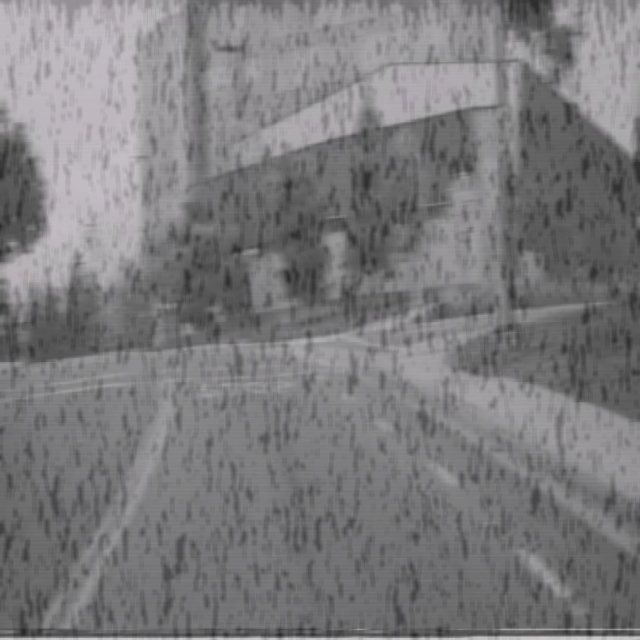stop: (448, 169, 477, 229)
